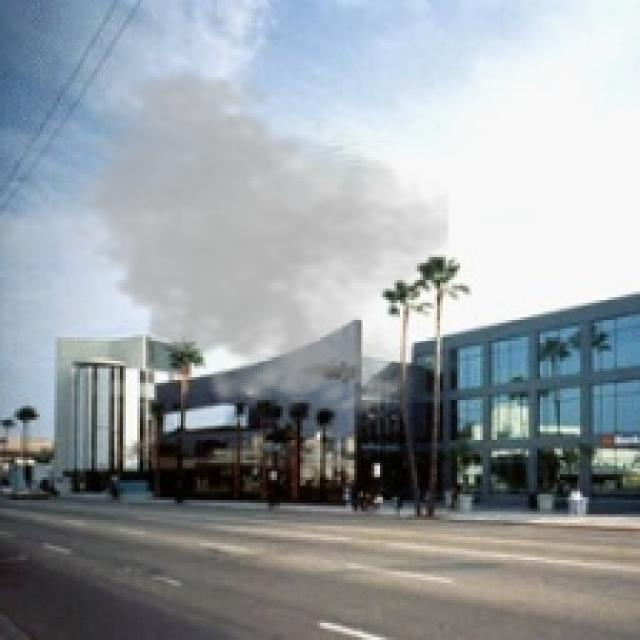Smoke: (62, 63, 448, 426)
